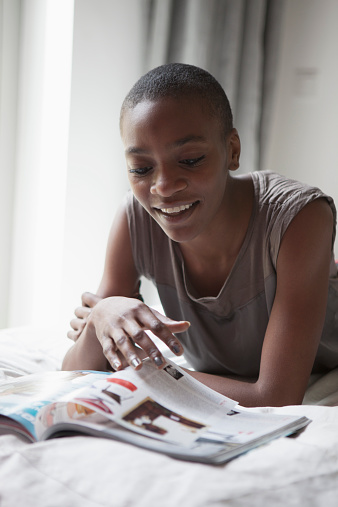deitado: (15, 65, 338, 463)
